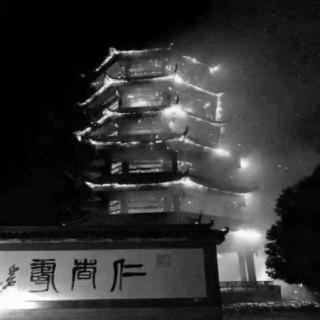Fire: (69, 36, 257, 222), (207, 218, 269, 280)
